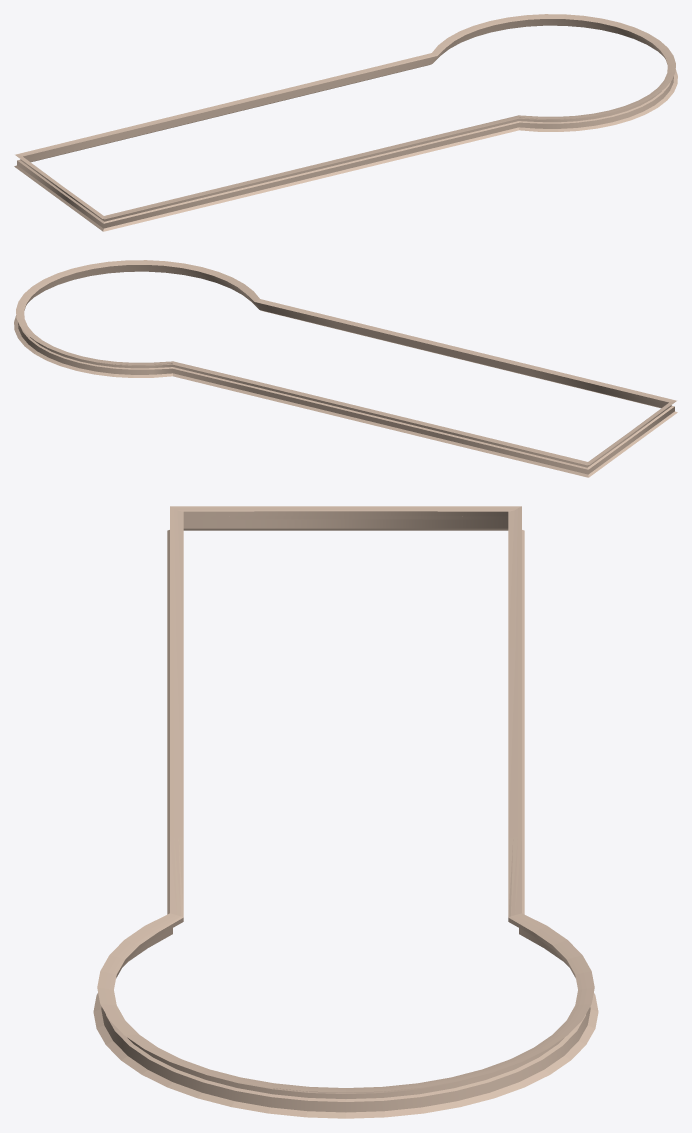
The model's file is BC_Insideceiling_A 1.fbx.
3 views of the same model, one above another, from view 1: azimuth 30°, elevation 25°; view 2: azimuth 150°, elevation 25°; view 3: azimuth 270°, elevation 25° (orthographic). The views are drawn at different scales.
Parts seen in each view (by area): view 1: BC_Insideceiling_A_1; view 2: BC_Insideceiling_A_1; view 3: BC_Insideceiling_A_1.
Boxes of the visible parts, box(x1,y1,x2,y2) form: BC_Insideceiling_A_1: box(14, 14, 677, 231); BC_Insideceiling_A_1: box(14, 260, 677, 477); BC_Insideceiling_A_1: box(93, 506, 598, 1118).
Bounding box in the file's own units: 8463 × 164 × 3072.
